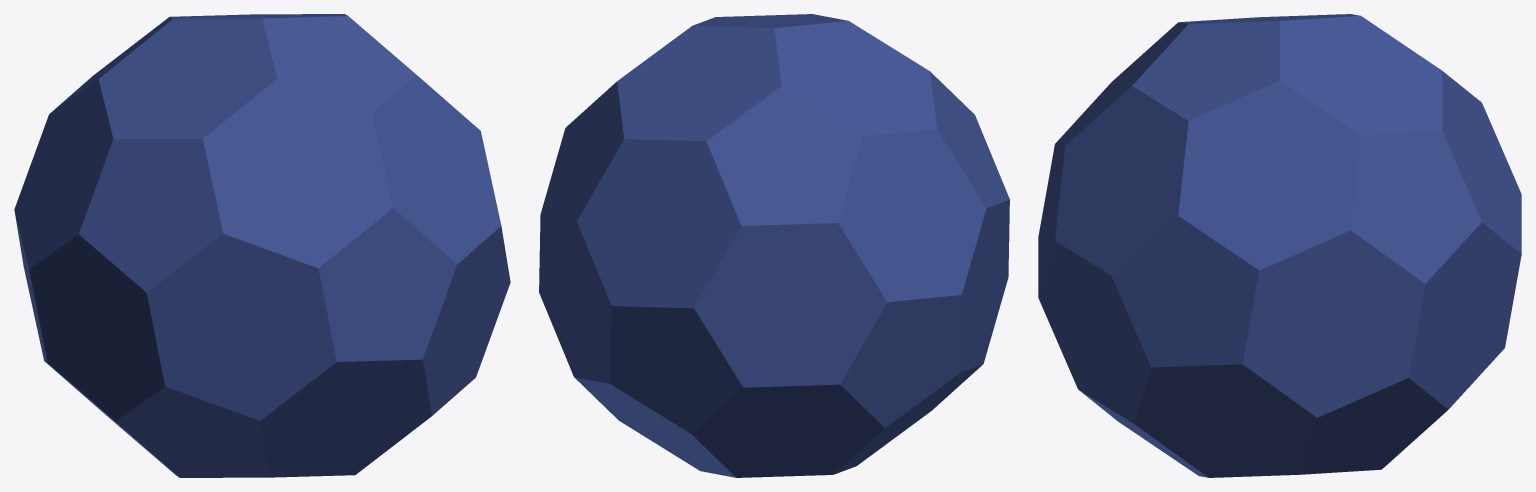
The model's file is ball.glb.
3 renders of one model, left to right at view 1: azimuth 30°, elevation 25°; view 2: azimuth 150°, elevation 25°; view 3: azimuth 270°, elevation 25°, orthographic. The views are drawn at different scales.
Visible parts, largest first — view 1: SM_Primitive_SoccerBall_01; view 2: SM_Primitive_SoccerBall_01; view 3: SM_Primitive_SoccerBall_01.
Boxes of the visible parts, left/top/right/bottom form: SM_Primitive_SoccerBall_01: left=14, top=14, right=510, bottom=477; SM_Primitive_SoccerBall_01: left=539, top=14, right=1009, bottom=477; SM_Primitive_SoccerBall_01: left=1038, top=14, right=1521, bottom=477.
Size of the model in its own units: 0.9864 by 1 by 0.9734.
1 material, 1 textured.
